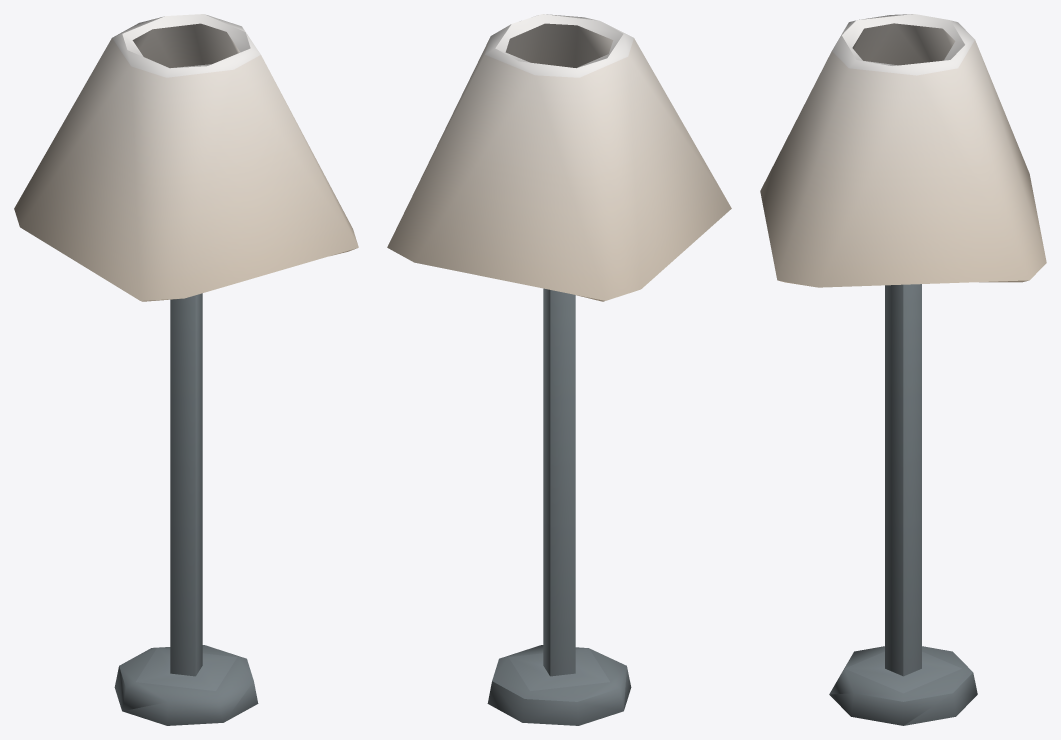
File: cc0-lamp-standing-lod1.glb
3 renders of one model, left to right at view 1: azimuth 30°, elevation 25°; view 2: azimuth 150°, elevation 25°; view 3: azimuth 270°, elevation 25°, orthographic.
Visible parts, largest first — view 1: part_0; view 2: part_0; view 3: part_0.
Boxes of the visible parts, left/top/right/bottom form: part_0: left=14, top=14, right=358, bottom=725; part_0: left=387, top=14, right=731, bottom=725; part_0: left=760, top=14, right=1046, bottom=725.
Bounding box in the file's own units: 1 × 2.52 × 1.
1 material, 1 textured.
